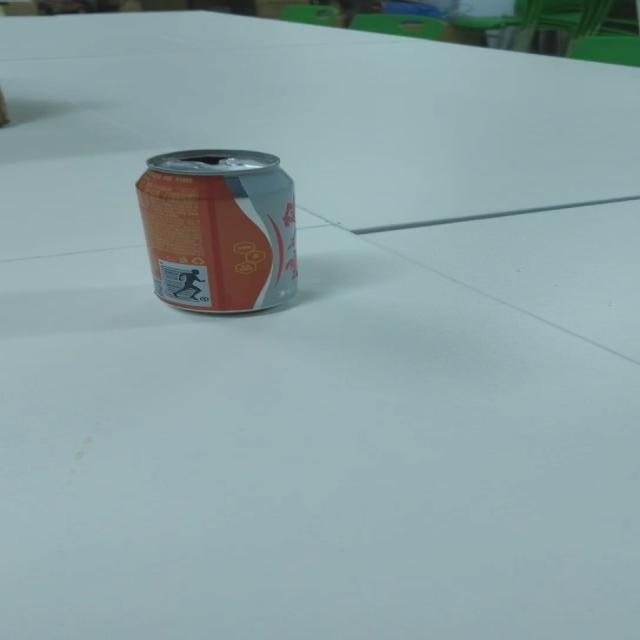can: (136, 146, 303, 316)
